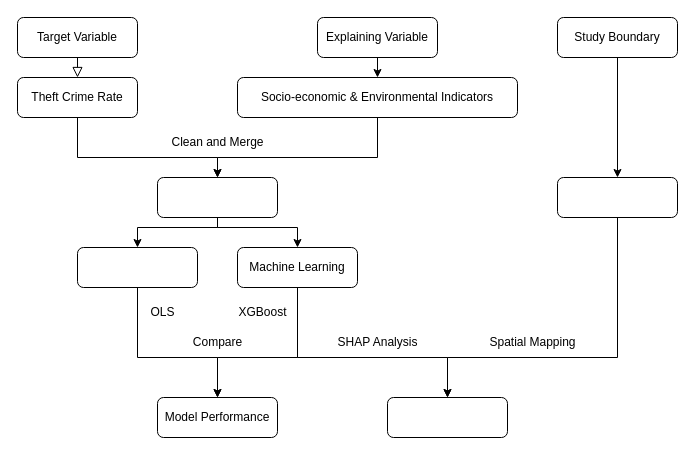
Some shapes in this 695 by 455 pixel diagram are drawn without their labels. Each missing label, with the box of its shape:
Final Dataset: (156, 176, 278, 218)
Logistic Regression: (76, 246, 198, 288)
London LSOA Boundary: (556, 176, 678, 218)
Variable Explanation: (386, 396, 508, 438)
